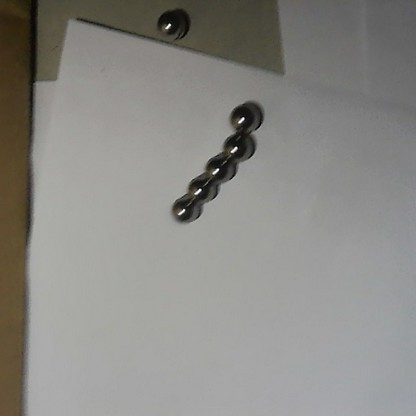ironball: (154, 4, 191, 42), (227, 95, 264, 133), (221, 132, 257, 164), (169, 194, 205, 226), (206, 150, 236, 185), (187, 172, 217, 204)
